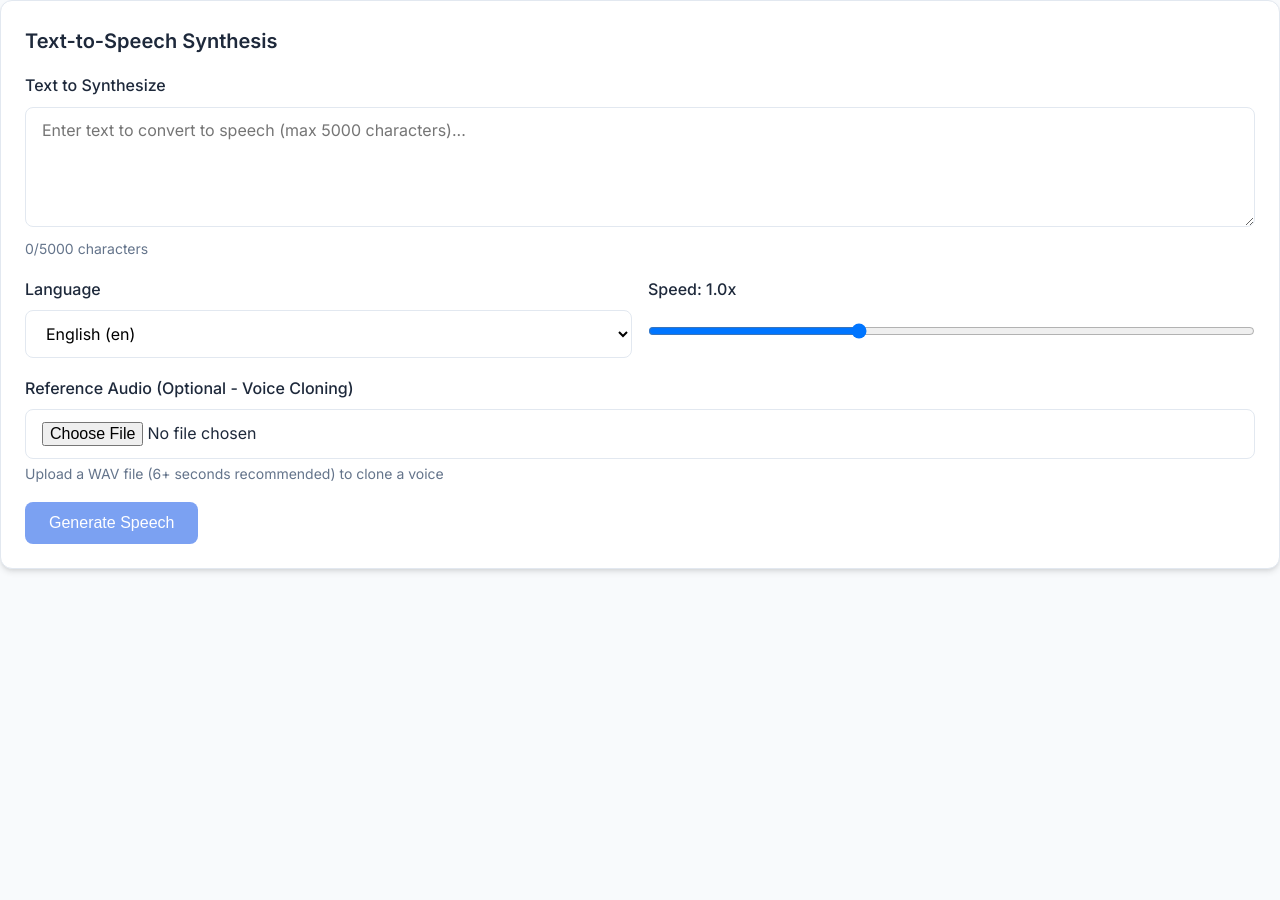
Test: TTSForm › clears result when clear button clicked
Type "Hello" into the text box labelled "Text to Synthesize".
click(640, 167); type("Hello")  # box 25,107 -> 1255,227
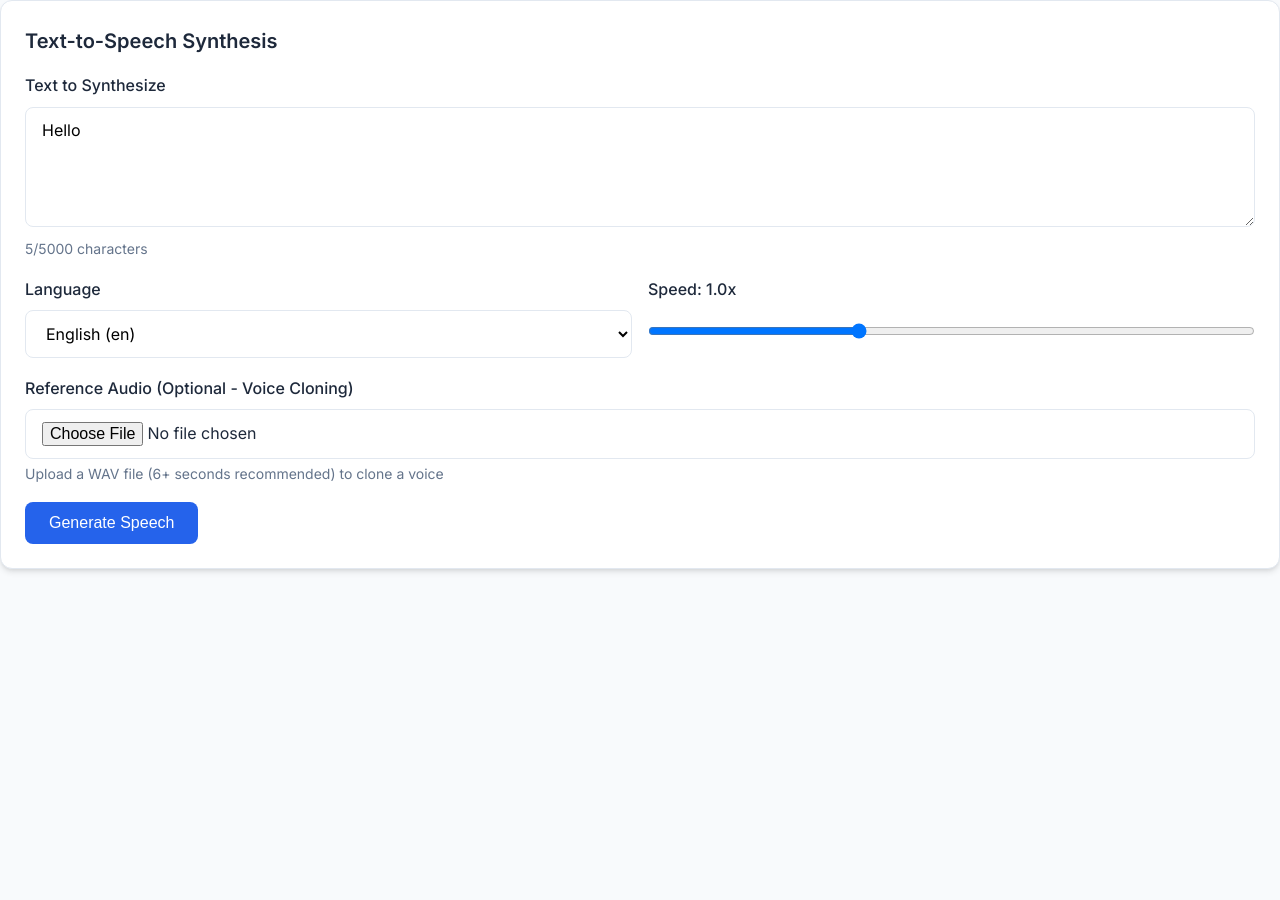
Click the button "Generate Speech".
click(112, 523)  # box 25,502 -> 198,544
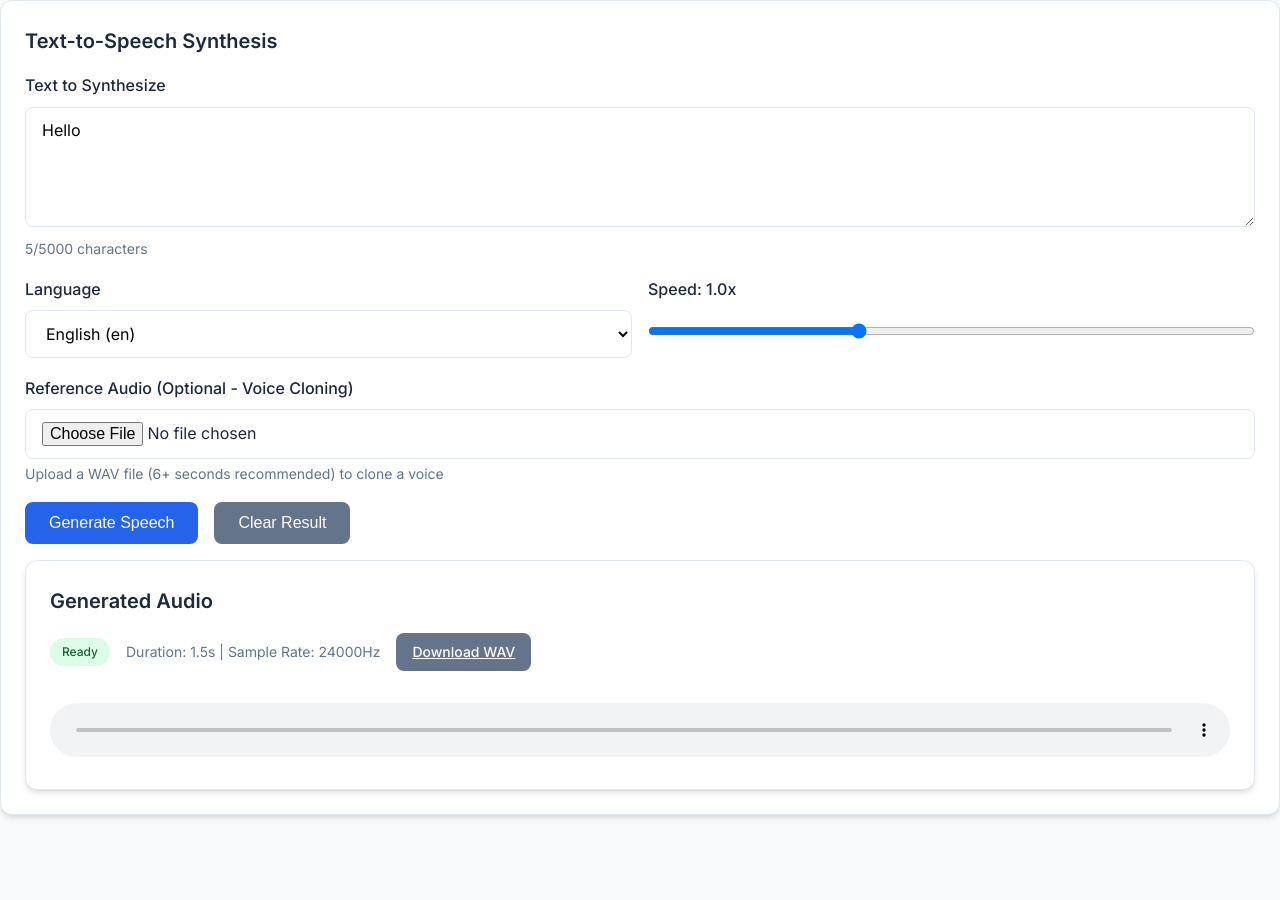
Now the button "Download WAV" is shown, box 396,633 -> 531,671
Click the button "Clear Result".
click(282, 523)  # box 214,502 -> 350,544
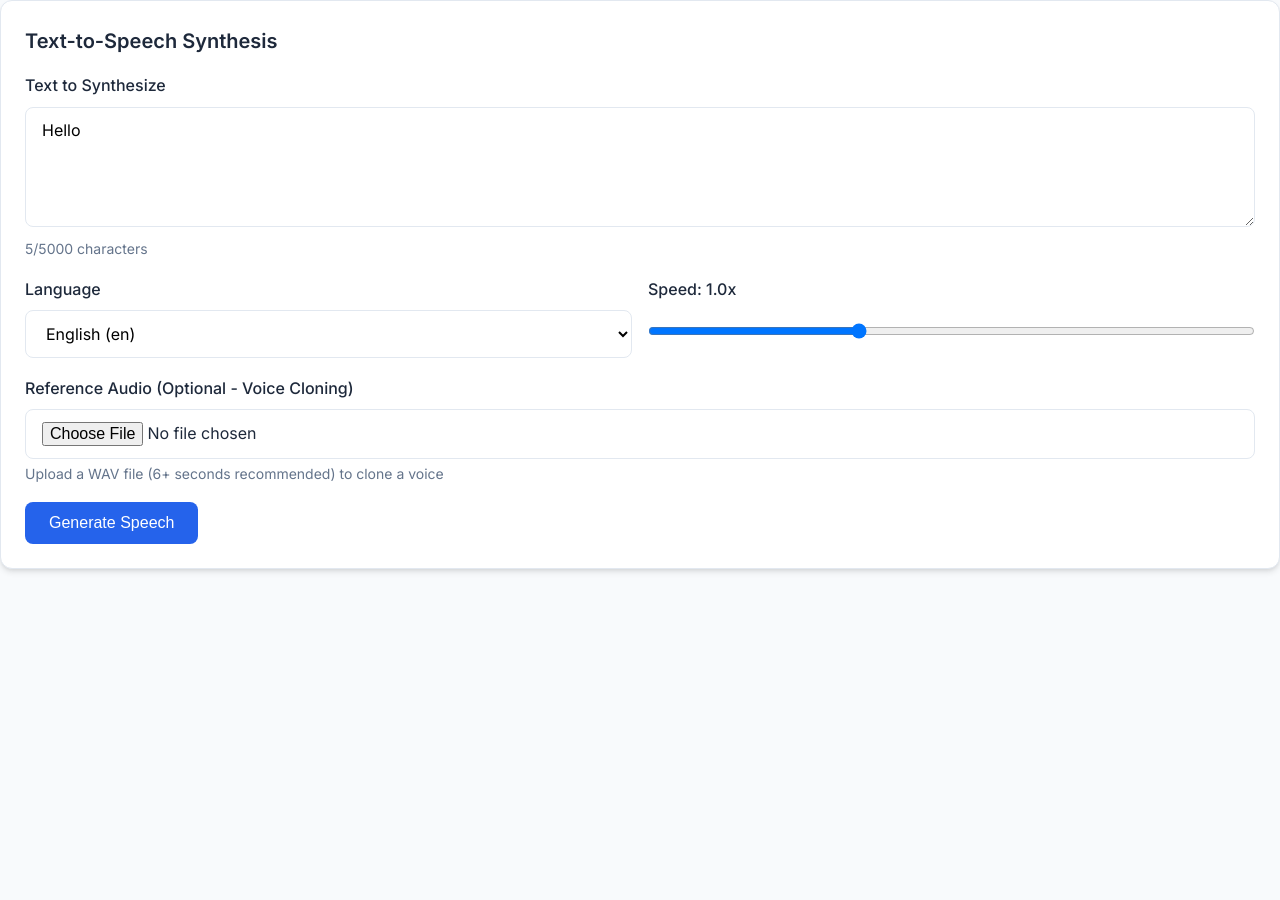
Now the button "Download WAV" is gone
